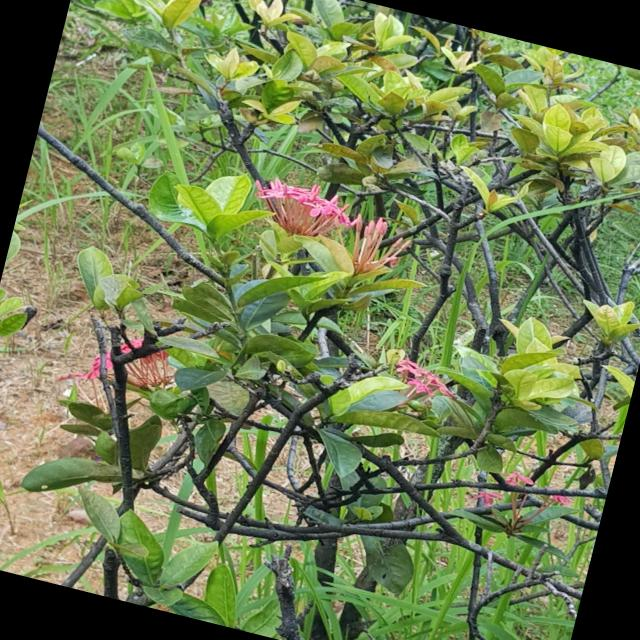Chinese-Ixora: (54, 320, 180, 418), (244, 168, 366, 252), (314, 202, 424, 284), (464, 460, 574, 540), (384, 354, 461, 416)
